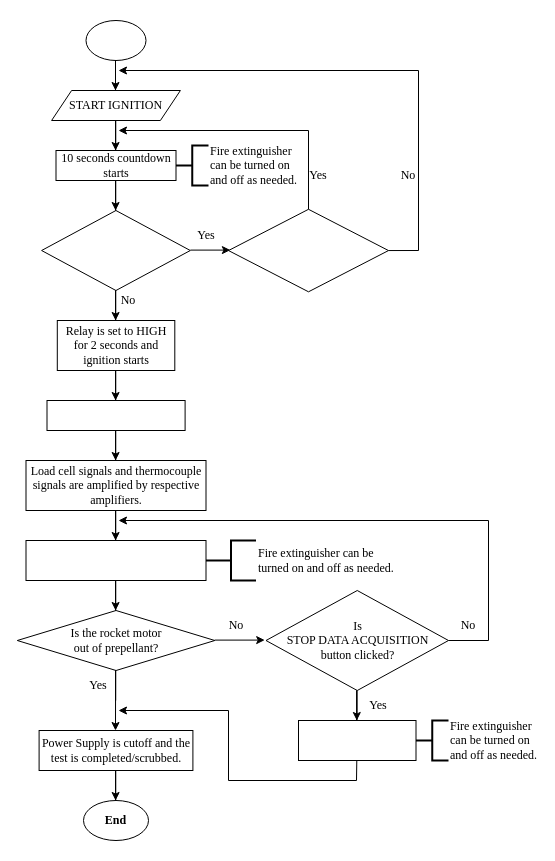
This 555x861 diagram has some shape labels left out. The shapes that lost their labels are listed below. From the top down, each one's box as (x1, y1, x2, y2) in pixels, then its label:
(85, 20, 146, 60): Start
(41, 210, 190, 290): Is STOP COUNTDOWN button clicked?
(228, 208, 388, 292): Is START IGNITION button clicked?
(46, 400, 185, 430): Rocket Motor Ignited
(25, 540, 206, 580): Data is printed on the serial monitor and written into SD Card.
(298, 720, 416, 760): Serial Printing and Data Writing Stopped
